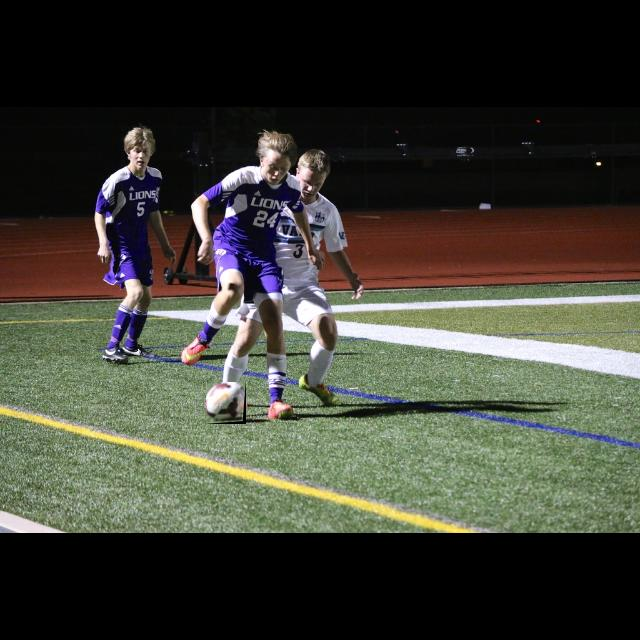Football: (206, 382, 246, 424)
